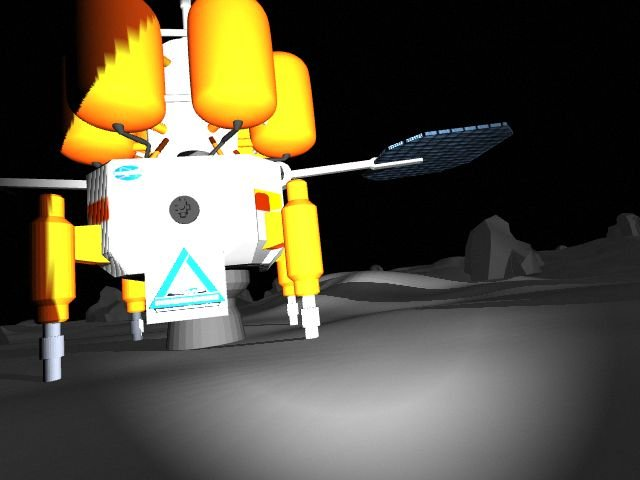basemarker: (147, 246, 228, 309)
